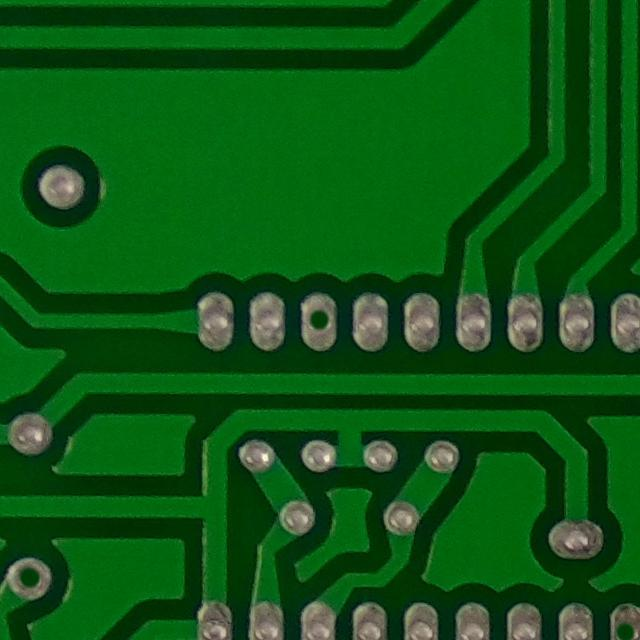missing_hole: (293, 293, 346, 357), (2, 551, 55, 608), (602, 605, 640, 639)
